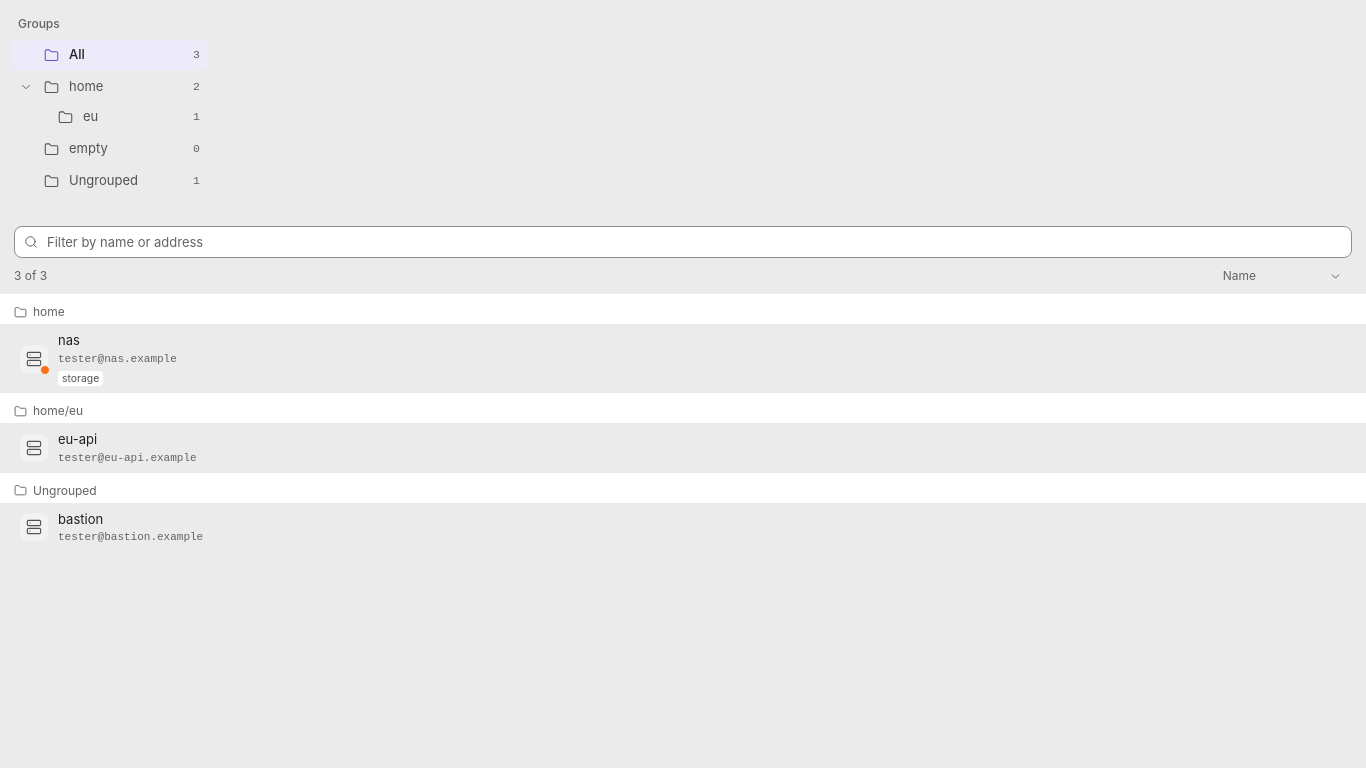
Test: the connection list and the list of groups › keeps filtering and visible metadata
Check: the text "storage" is shown, box left=58, top=370, right=103, bottom=386
Type "bast" into the search field named "Filter connections".
click(683, 242); type("bast")  # box left=14, top=226, right=1352, bottom=258
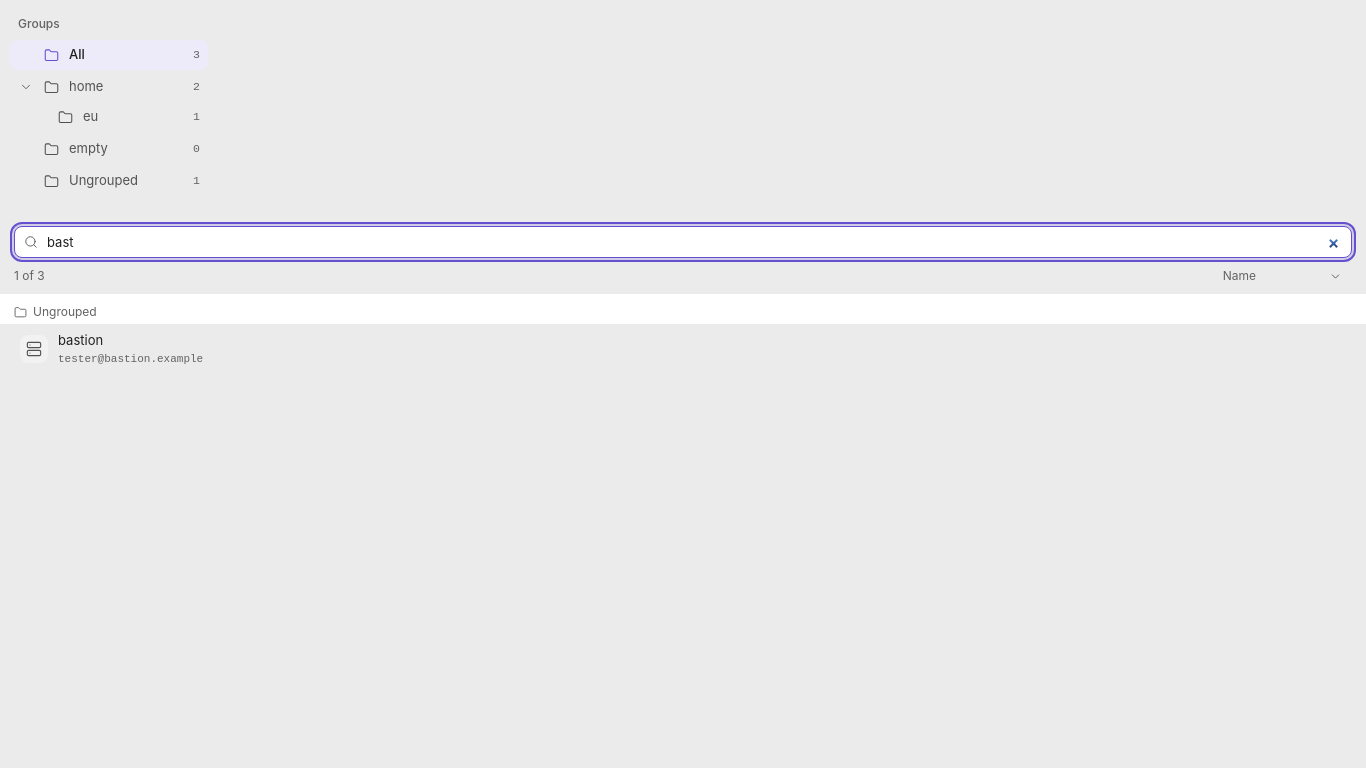
Check: the button "bastion tester@bastion.example" is shown, box left=6, top=324, right=1360, bottom=374
Check: the button "nas" is gone
